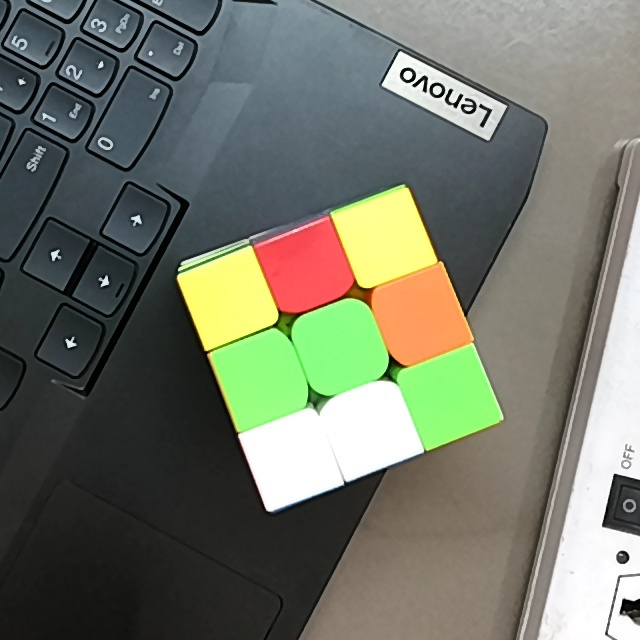tile: (232, 348, 293, 409), (389, 286, 451, 346), (310, 316, 370, 377), (420, 366, 479, 427), (262, 429, 320, 490), (342, 401, 400, 460), (356, 210, 413, 268), (276, 243, 337, 297), (201, 271, 258, 325)
